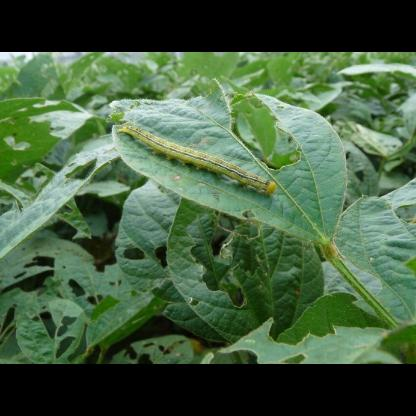agujero: (175, 205, 251, 311), (230, 92, 306, 172), (284, 300, 390, 352), (64, 156, 98, 184), (23, 254, 59, 274), (56, 310, 78, 340), (152, 242, 170, 274), (8, 131, 30, 155), (53, 336, 78, 356), (21, 171, 50, 188), (49, 201, 71, 223), (122, 244, 148, 262), (40, 308, 54, 338), (349, 166, 367, 186), (69, 278, 85, 300), (343, 146, 353, 160), (116, 275, 124, 287), (106, 280, 118, 286)
oruga: (113, 118, 277, 204)
